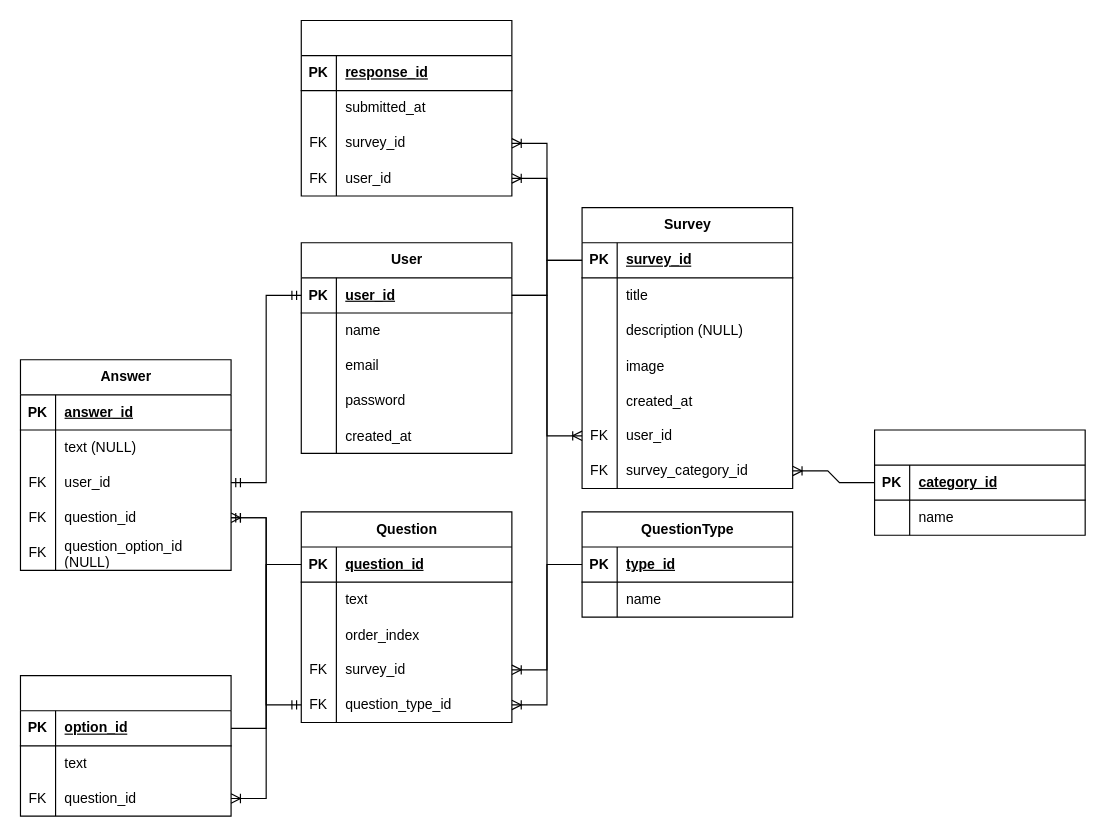
The diagram is 1106 pixels wide and 837 high, and some of its shapes have lost their labels. The box of each missing label's shape, as (x1, y1, x2, y2) in pixels:
QuestionOption: (19, 675, 231, 816)
SurveyCategory: (873, 429, 1085, 535)
SurveyResponse: (300, 19, 512, 196)
